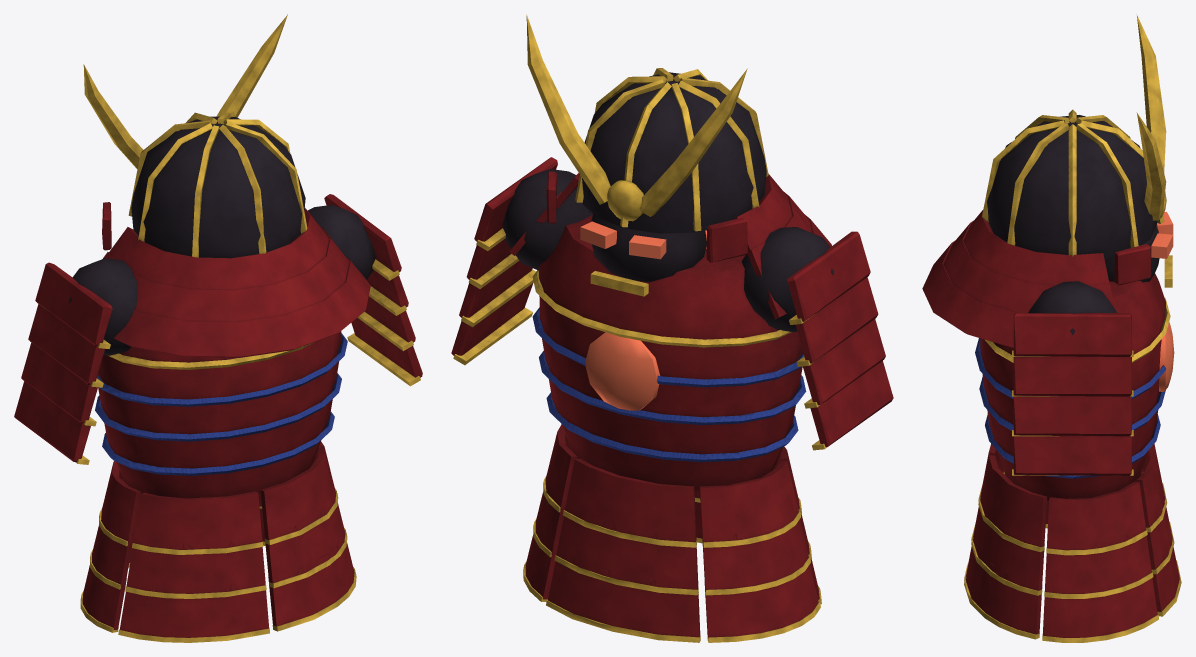
The model's file is yoroi.fbx.
3 renders of one model, left to right at view 1: azimuth 30°, elevation 25°; view 2: azimuth 150°, elevation 25°; view 3: azimuth 270°, elevation 25°, orthographic. The views are drawn at different scales.
Parts seen in each view (by area): view 1: yoroi; view 2: yoroi; view 3: yoroi.
Boxes of the visible parts, bbox=[...] form: yoroi: bbox=[14, 14, 422, 642]; yoroi: bbox=[451, 14, 893, 642]; yoroi: bbox=[922, 14, 1181, 642].
Bounding box in the file's own units: 498 × 719 × 324.
1 material, 1 textured.
